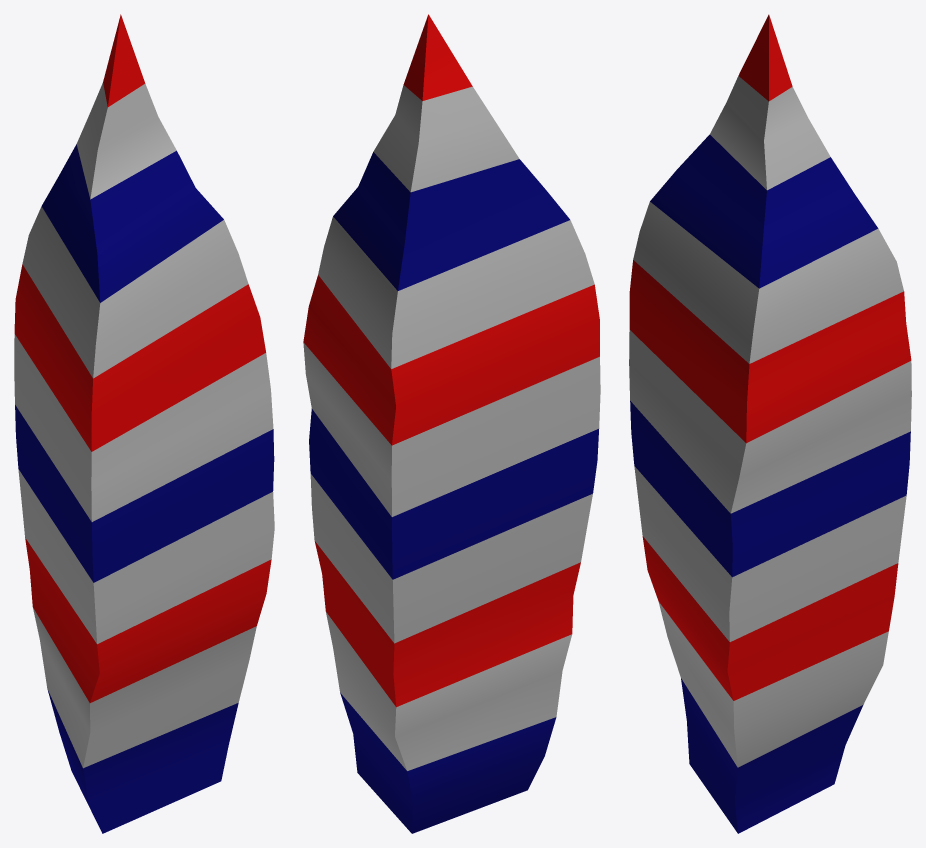
File: biru03_furansu.fbx
The picture shows the model from 3 angles, left to right: view 1: azimuth 30°, elevation 25°; view 2: azimuth 150°, elevation 25°; view 3: azimuth 270°, elevation 25°; orthographic projection.
Parts seen in each view (by area): view 1: pPyramid1; view 2: pPyramid1; view 3: pPyramid1.
Part boxes in pixels (x1=…): pPyramid1: x1=14, y1=14, x2=274, y2=833; pPyramid1: x1=303, y1=14, x2=600, y2=833; pPyramid1: x1=629, y1=14, x2=911, y2=833.
Size of the model in its own units: 21.43 by 67.82 by 22.33.
